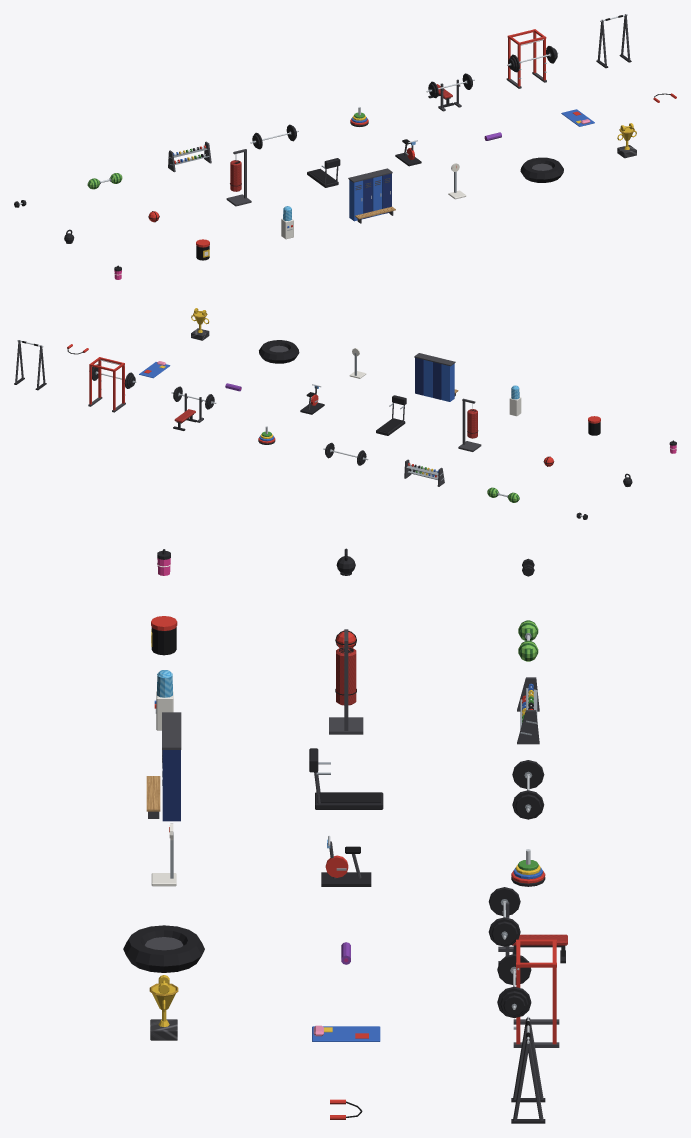
Rendered from Props_Gym.fbx.
3 views of the same model, one above another, from view 1: azimuth 30°, elevation 25°; view 2: azimuth 150°, elevation 25°; view 3: azimuth 270°, elevation 25° (orthographic). The views are drawn at different scales.
Parts seen in each view (by area): view 1: Lockers, SquatRack, GiantTire, PunchingBag, BenchPress, PullUpBar, DumbbellRack, Treadmill, GoldTrophy; view 2: Lockers, SquatRack, GiantTire, PunchingBag, BenchPress, DumbbellRack, PullUpBar, Treadmill, GoldTrophy, WaterCooler, ExerciseBike; view 3: SquatRack, GiantTire, Lockers, BenchPress, PunchingBag, Treadmill, PullUpBar, Barbell, ExerciseBike, GoldTrophy, DumbbellRack, PushUpMat (+2 smaller).
Part boxes in pixels (left/top/right/bottom): Lockers: left=348, top=168, right=395, bottom=223; SquatRack: left=506, top=29, right=558, bottom=88; GiantTire: left=520, top=157, right=563, bottom=182; PunchingBag: left=226, top=149, right=251, bottom=206; BenchPress: left=426, top=73, right=474, bottom=111; PullUpBar: left=596, top=14, right=631, bottom=68; DumbbellRack: left=168, top=141, right=211, bottom=172; Treadmill: left=307, top=158, right=340, bottom=187; GoldTrophy: left=617, top=123, right=636, bottom=158; Lockers: left=414, top=353, right=458, bottom=401; SquatRack: left=88, top=357, right=136, bottom=412; GiantTire: left=259, top=340, right=299, bottom=363; PunchingBag: left=458, top=398, right=481, bottom=451; BenchPress: left=171, top=386, right=216, bottom=430; DumbbellRack: left=404, top=459, right=444, bottom=486; PullUpBar: left=14, top=340, right=46, bottom=390; Treadmill: left=376, top=395, right=406, bottom=435; GoldTrophy: left=191, top=308, right=209, bottom=340; WaterCooler: left=509, top=385, right=521, bottom=416; ExerciseBike: left=300, top=384, right=324, bottom=414; SquatRack: left=497, top=939, right=559, bottom=1047; GiantTire: left=123, top=925, right=204, bottom=972; Lockers: left=146, top=712, right=181, bottom=821; BenchPress: left=488, top=887, right=567, bottom=964; PunchingBag: left=329, top=629, right=363, bottom=734; Treadmill: left=309, top=748, right=383, bottom=809; PullUpBar: left=511, top=1016, right=545, bottom=1123; Barbell: left=512, top=760, right=544, bottom=819; ExerciseBike: left=321, top=835, right=371, bottom=886; GoldTrophy: left=149, top=975, right=178, bottom=1040; DumbbellRack: left=517, top=677, right=539, bottom=744; PushUpMat: left=312, top=1025, right=380, bottom=1041.
Size of the model in its own units: 116 by 9.05 by 39.07.
Materials: 1 (1 with a texture image).
